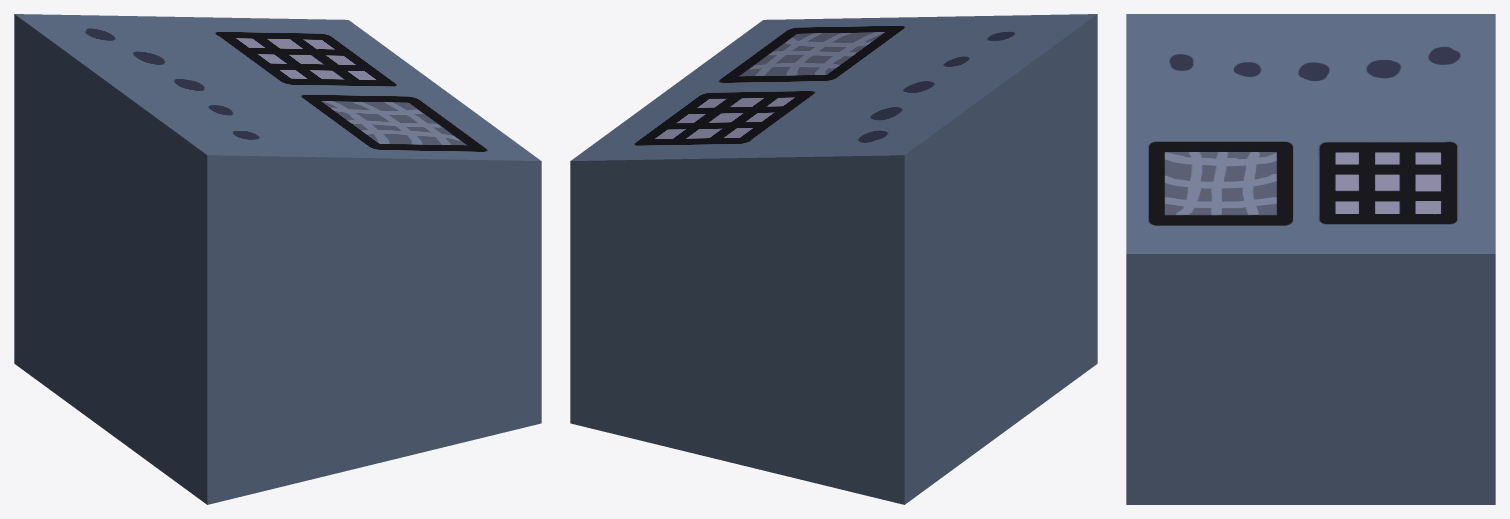
The model's file is Reactor-memory.glb.
3 renders of one model, left to right at view 1: azimuth 30°, elevation 25°; view 2: azimuth 150°, elevation 25°; view 3: azimuth 270°, elevation 25°, orthographic. The views are drawn at different scales.
Visible parts, largest first — view 1: Cube; view 2: Cube; view 3: Cube.
Boxes of the visible parts, left/top/right/bottom form: Cube: left=14, top=14, right=541, bottom=504; Cube: left=570, top=14, right=1097, bottom=504; Cube: left=1126, top=14, right=1495, bottom=504.
Bounding box in the file's own units: 2 × 2 × 2.
1 material, 1 textured.
